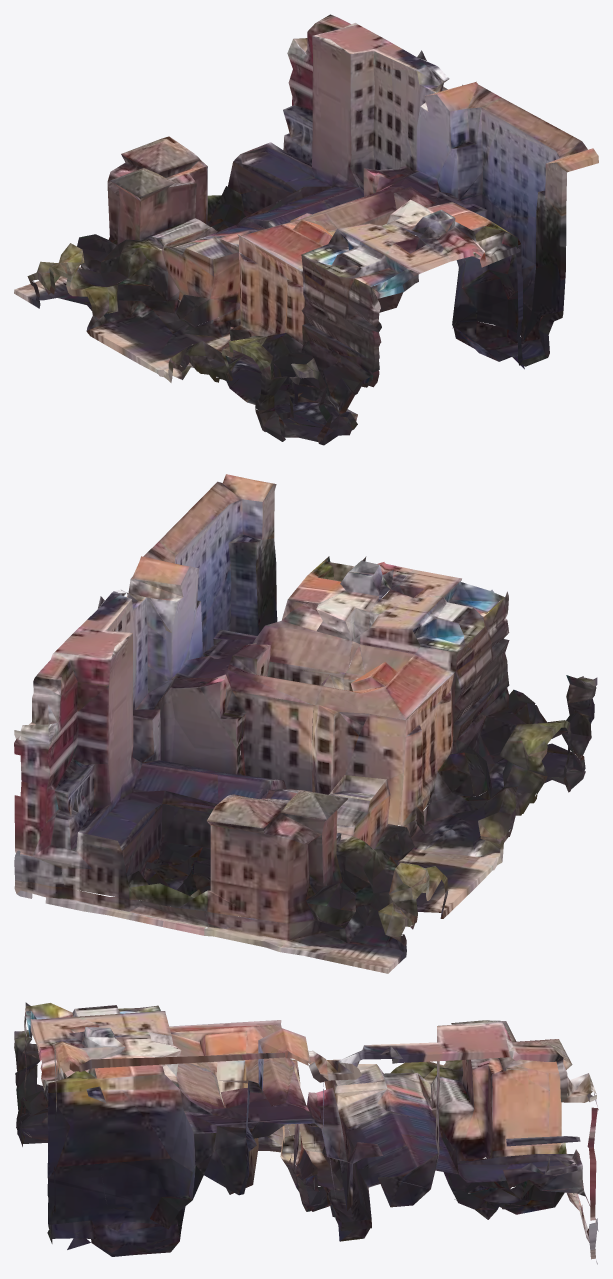
The picture shows the model from 3 angles, top to bottom: view 1: azimuth 30°, elevation 25°; view 2: azimuth 150°, elevation 25°; view 3: azimuth 270°, elevation 25°; orthographic projection. The views are drawn at different scales.
Visible parts, largest first — view 1: Mesh_0; view 2: Mesh_0; view 3: Mesh_0.
Part boxes in pixels (x1,y1,x2,y2): Mesh_0: (14,14,598,445); Mesh_0: (14,474,597,973); Mesh_0: (14,1002,598,1264).
Size of the model in its own units: 66.59 by 37.6 by 82.65.
Materials: 1 (1 with a texture image).
